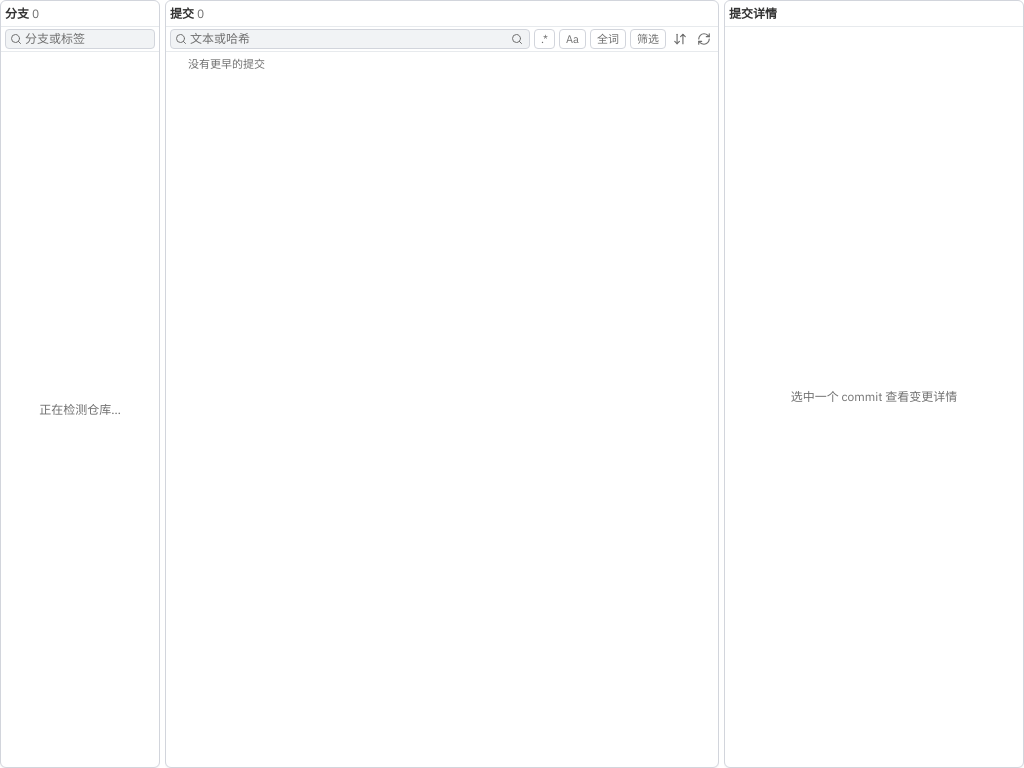
Test: GitLogPanel 过滤栏日期字段（DatePicker） › 弹层 portal 到 body：不被过滤栏容器裁剪
Click the button "筛选".
click(648, 39)  # box [630,29,666,49]
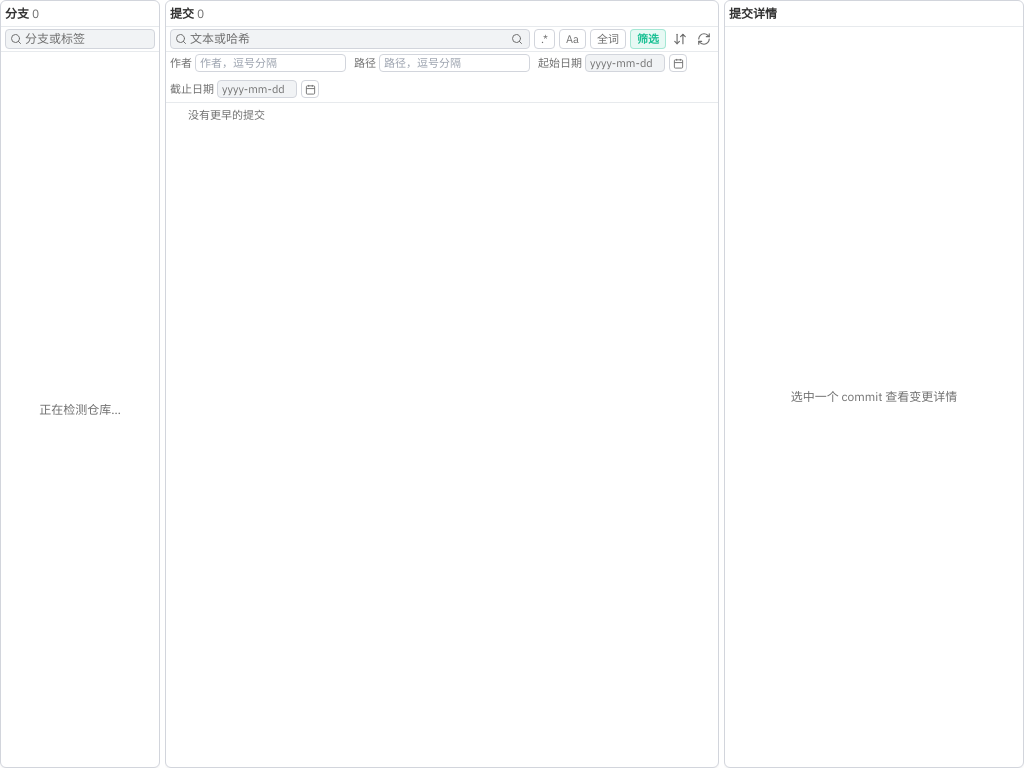
Click the button named "起始日期，打开日历".
click(678, 63)  # box [669,54,687,72]
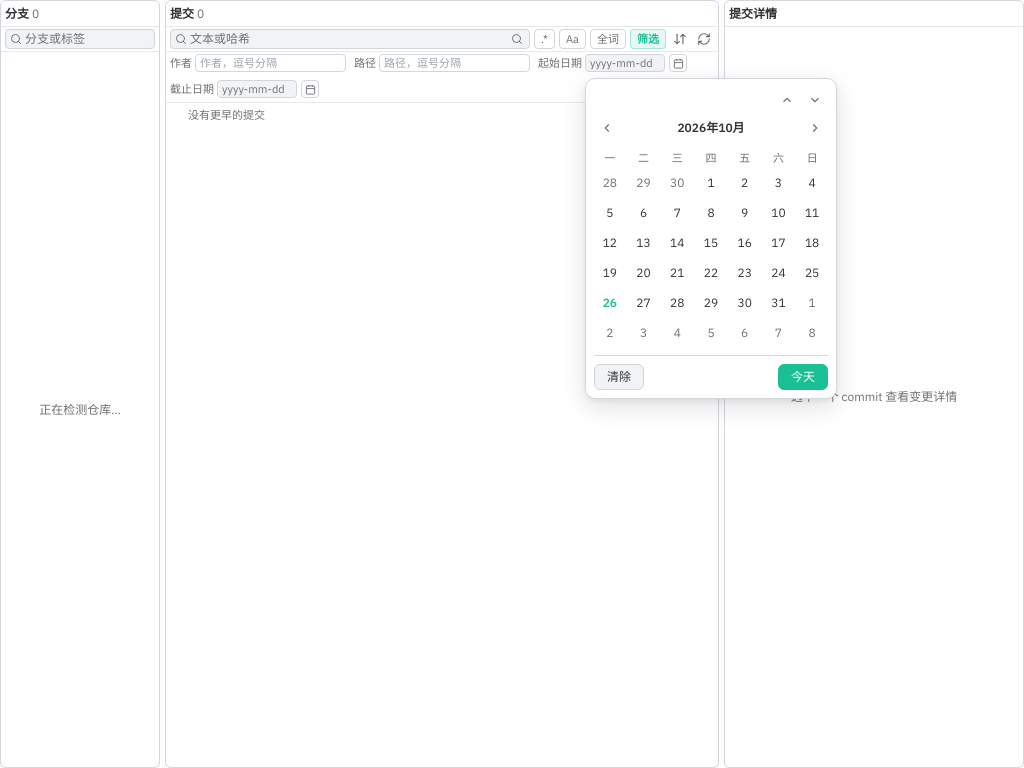
Result: the dialog is shown at [585,78,837,399]
